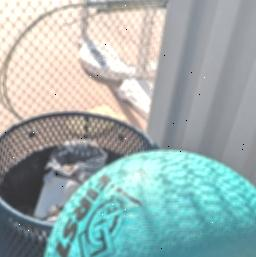algae: (37, 143, 256, 257)
